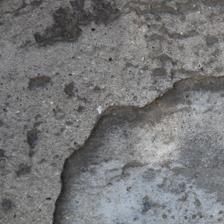Crack: (16, 83, 126, 139), (34, 64, 152, 107)
